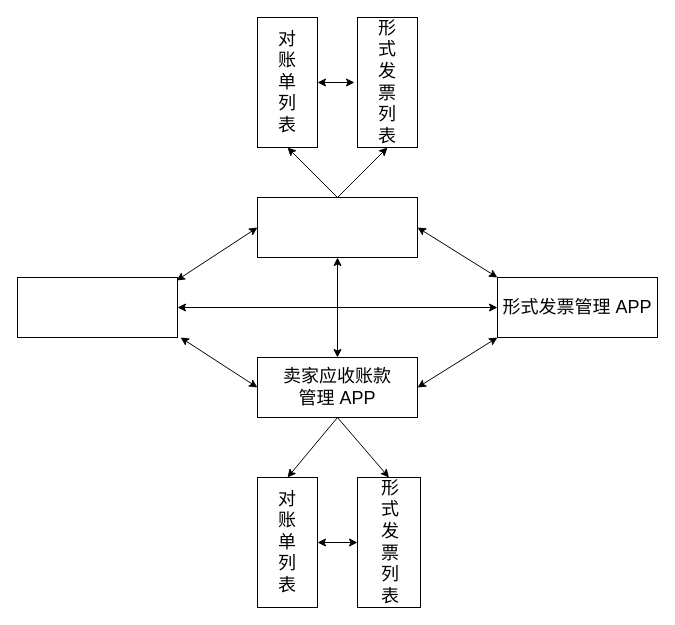
Some shapes in this 675 by 625 pixel diagram are drawn without their labels. Each missing label, with the box of its shape:
TS Chrome APP: (16, 276, 178, 338)
买家应付账款 管理 APP: (256, 196, 418, 258)
